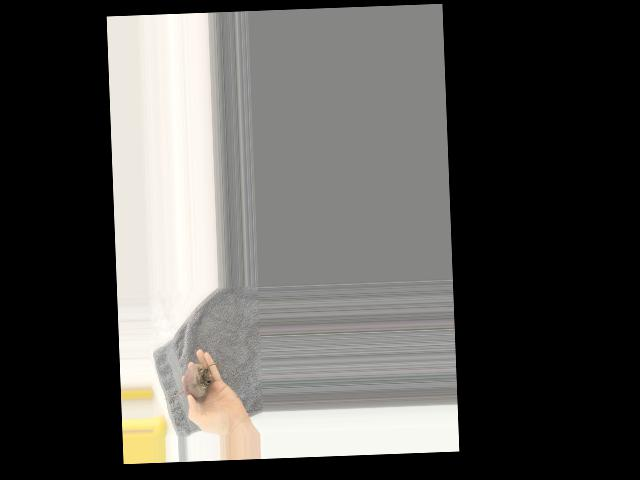beet: (163, 363, 214, 403)
